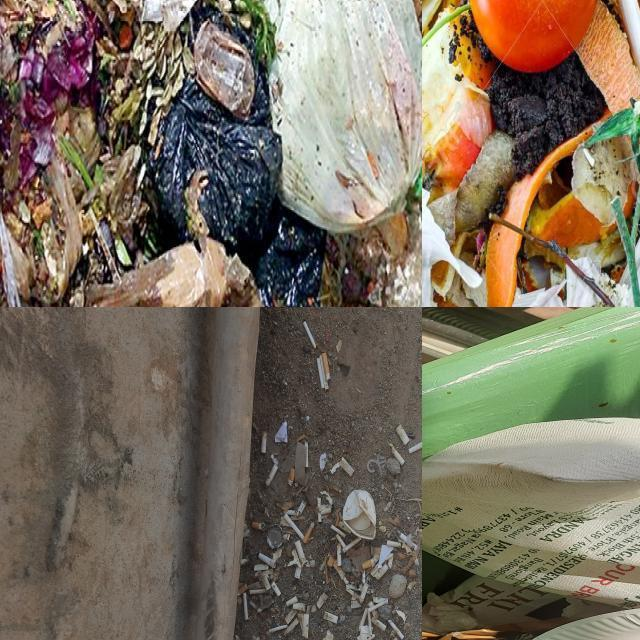Background: (0, 307, 422, 640)
Cig_bud: (284, 513, 305, 538), (265, 455, 279, 487), (316, 357, 329, 389), (388, 442, 404, 466), (303, 320, 316, 348), (400, 534, 419, 551), (388, 619, 404, 639), (342, 538, 363, 553), (295, 540, 307, 566), (339, 457, 355, 476), (368, 598, 388, 613), (363, 553, 379, 570), (321, 353, 331, 380), (284, 617, 299, 634), (259, 553, 276, 568), (335, 519, 352, 534), (396, 425, 409, 444), (374, 564, 388, 581), (303, 523, 315, 542), (372, 617, 387, 632), (260, 572, 271, 592), (302, 613, 310, 639), (323, 611, 339, 624), (331, 525, 347, 538), (366, 609, 374, 634), (268, 624, 287, 634), (360, 583, 369, 604), (409, 441, 422, 455), (243, 592, 249, 621), (316, 594, 327, 609), (260, 431, 267, 453), (287, 468, 295, 487), (271, 581, 281, 596), (297, 500, 307, 515), (335, 564, 345, 579), (321, 506, 337, 515), (286, 596, 299, 607), (337, 536, 348, 549), (360, 611, 368, 628), (254, 564, 270, 572), (318, 498, 323, 523), (292, 602, 305, 611), (252, 521, 265, 530), (337, 545, 342, 568), (387, 540, 401, 547), (327, 555, 334, 568), (249, 589, 267, 594), (239, 557, 249, 566), (305, 442, 308, 468), (284, 510, 295, 515), (337, 549, 340, 566), (332, 525, 335, 530), (382, 626, 385, 630)
Disposable: (194, 20, 255, 119)
Garbage: (422, 0, 640, 307), (422, 417, 640, 640)
Plastic_Bag: (263, 0, 422, 230), (152, 67, 282, 251), (255, 211, 325, 307)
Plastic_wraper: (422, 619, 571, 640)
